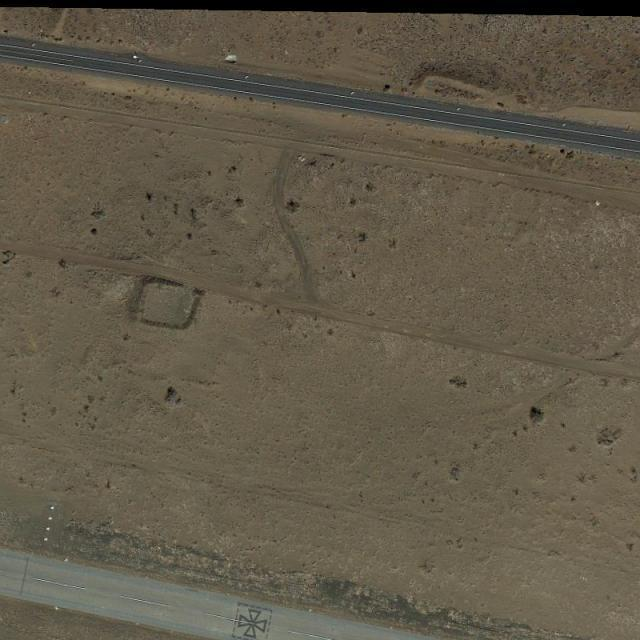vehicle: (133, 55, 145, 64)
